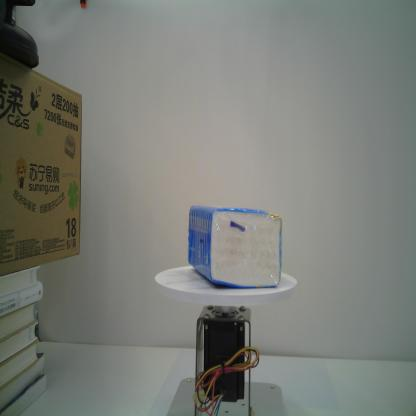Tissue: (187, 204, 283, 289)
